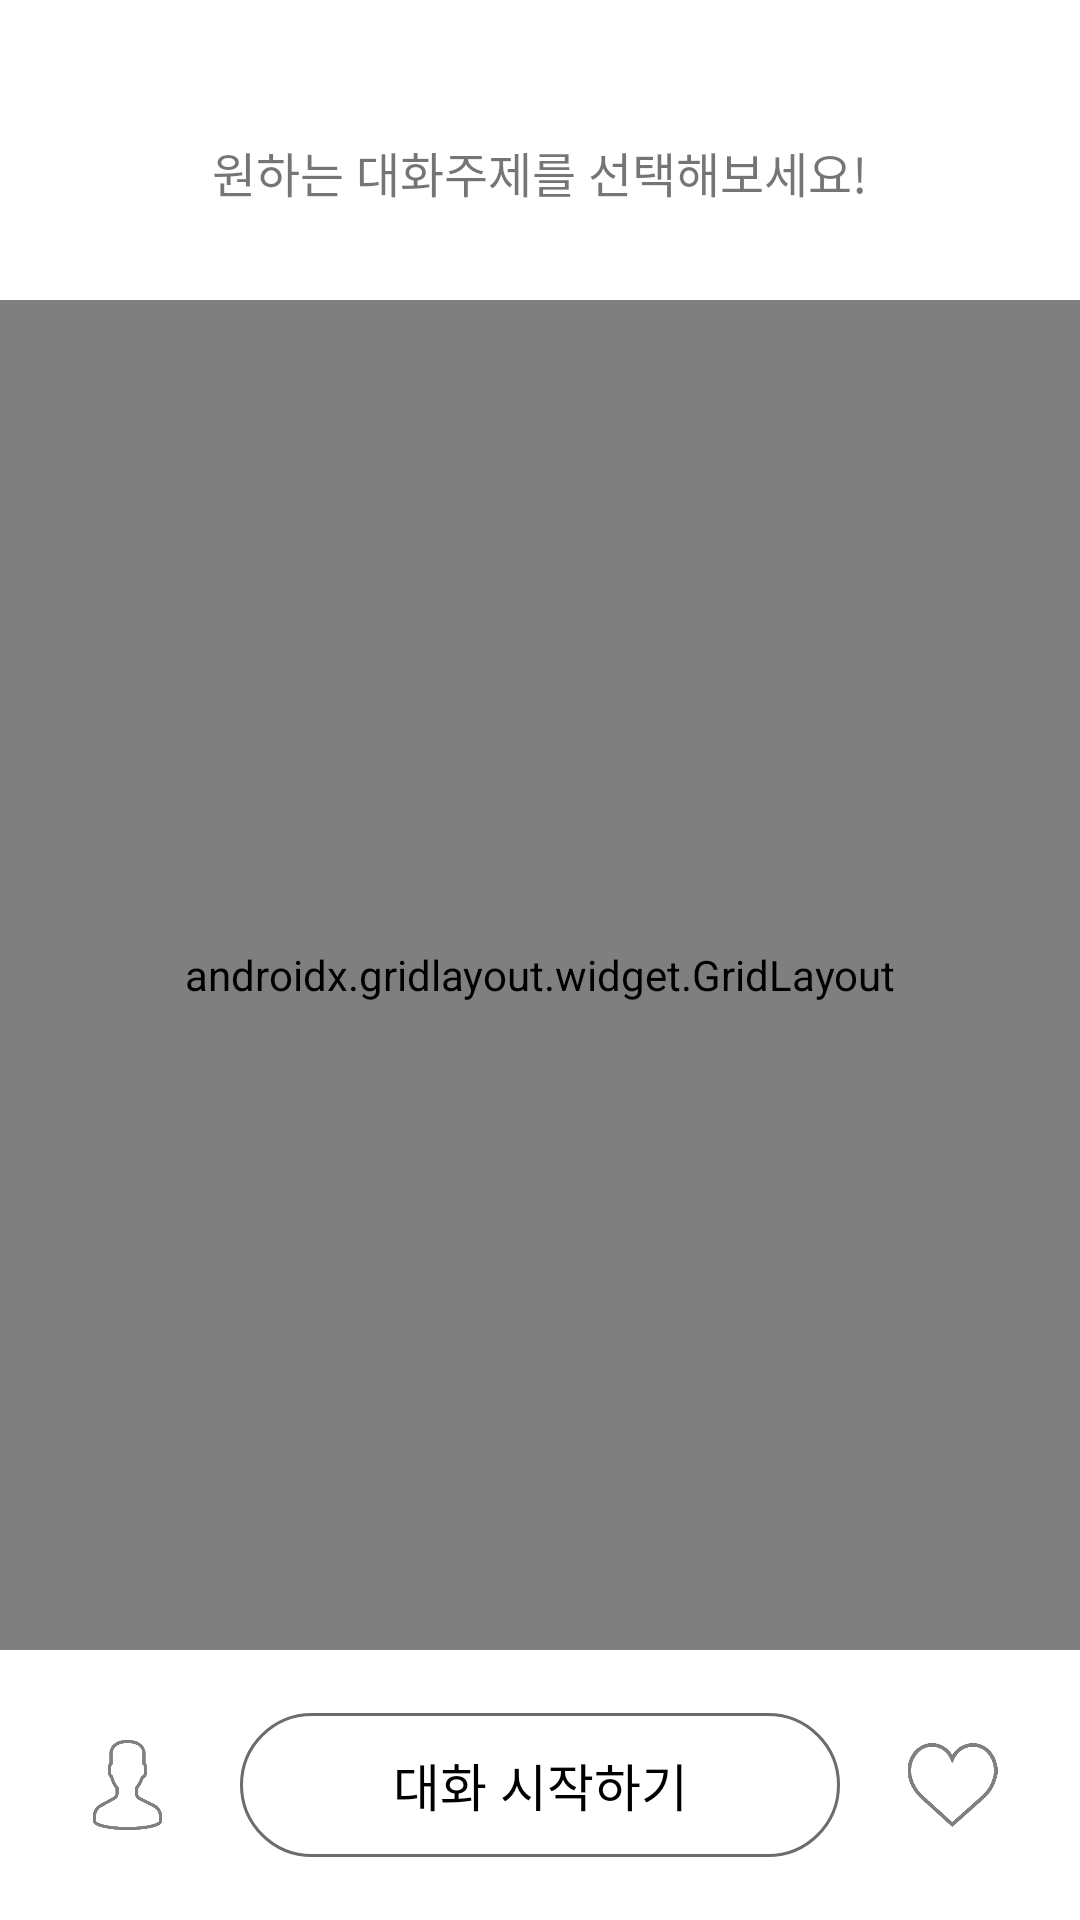

Named icons in this screenshot (1080 x 1920) and their centers, (x=x, y=y):
heart: (x=953, y=1785)
user: (x=127, y=1785)
